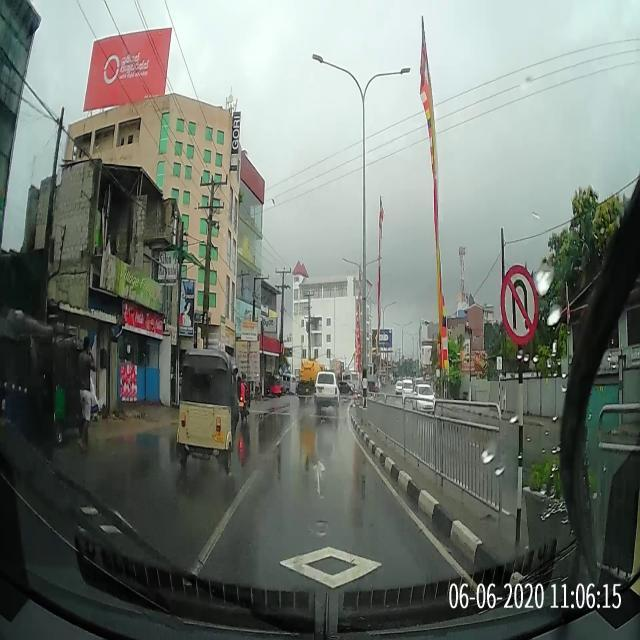diamond: (178, 536, 475, 594)
